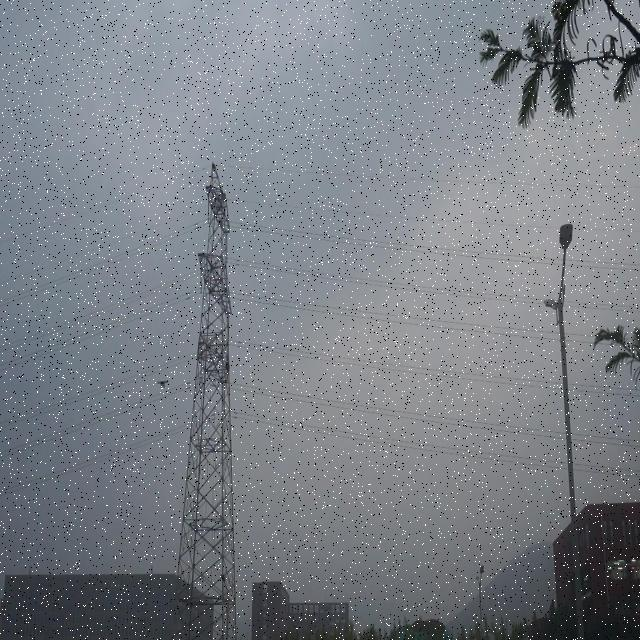UAV: (157, 379, 168, 388)
